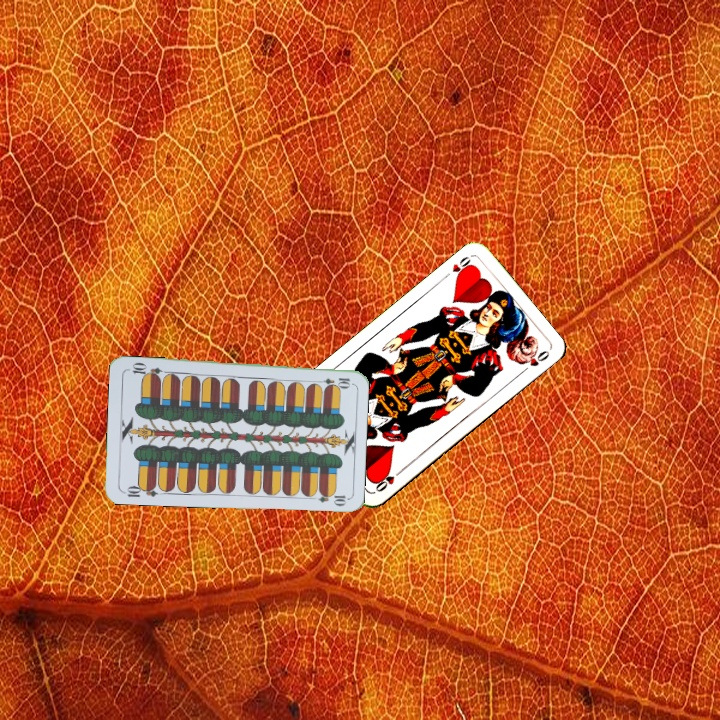E10: (119, 481, 160, 500), (312, 374, 353, 388)
HO: (371, 465, 405, 495), (448, 252, 476, 281)
